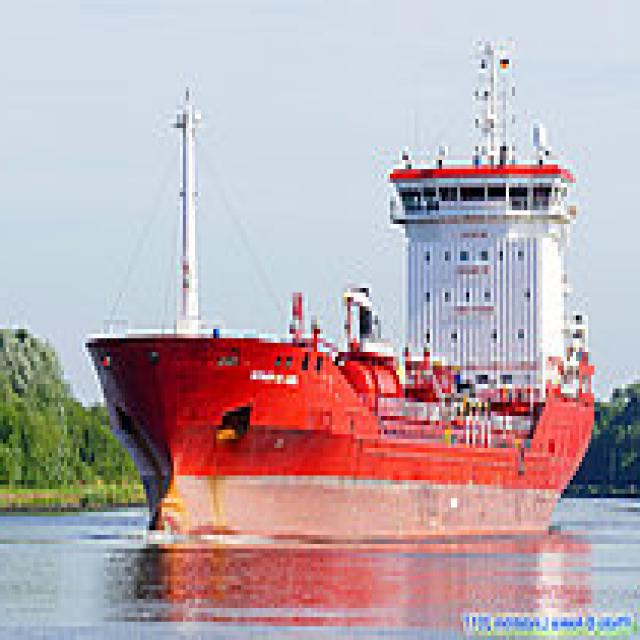Tanker: (85, 32, 600, 530)
